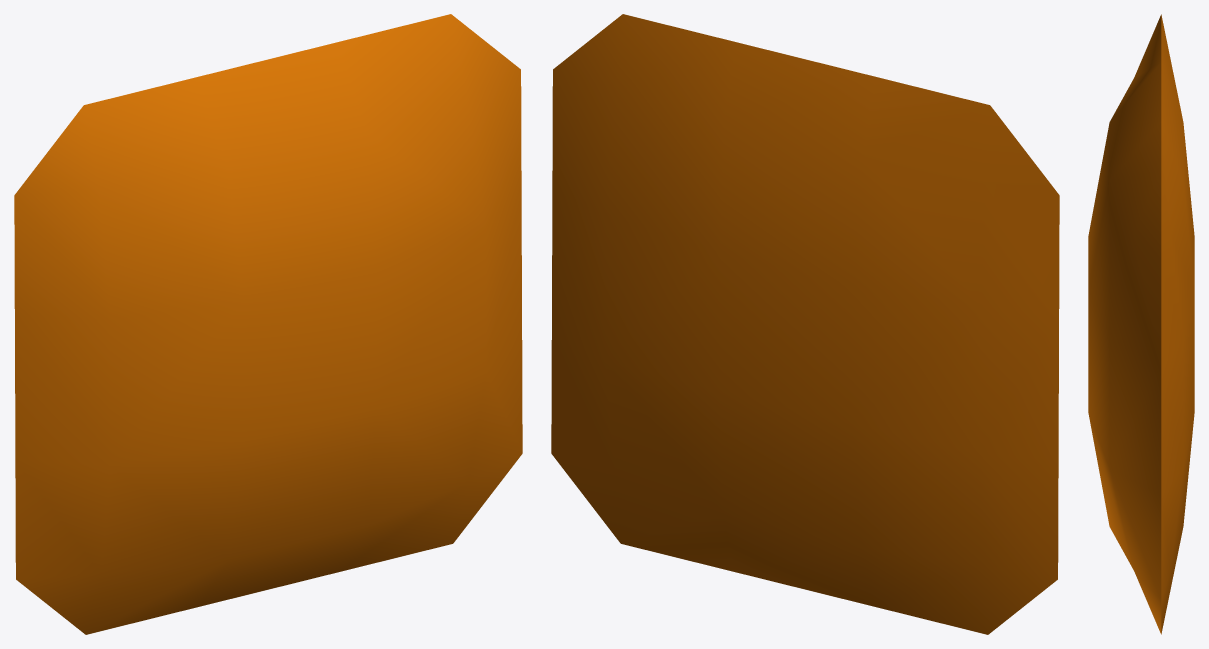
The model's file is OrangeCushion.glb.
3 views of the same model, side by side, from view 1: azimuth 30°, elevation 25°; view 2: azimuth 150°, elevation 25°; view 3: azimuth 270°, elevation 25° (orthographic). The views are drawn at different scales.
Visible parts, largest first — view 1: cushion; view 2: cushion; view 3: cushion.
Boxes of the visible parts, <box> form: cushion: <box>14,14,522,634</box>; cushion: <box>551,14,1059,634</box>; cushion: <box>1088,14,1194,634</box>.
Bounding box in the file's own units: 0.6322 × 0.6322 × 0.1306.
Materials: 1 (1 with a texture image).
